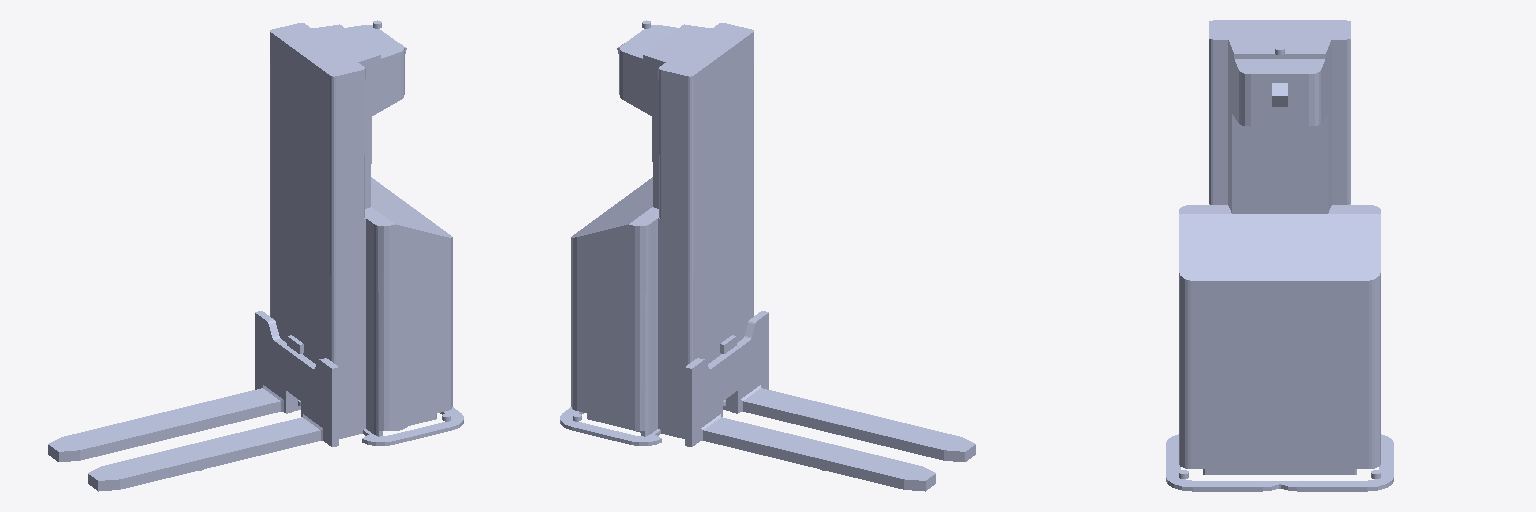
The robot description file, URDF, robot "forklift_urdf":
<?xml version="1.0" encoding="utf-8"?>
<!-- This URDF was automatically created by SolidWorks to URDF Exporter! Originally created by Stephen Brawner (brawner@gmail.com) 
     Commit Version: 1.6.0-4-g7f85cfe  Build Version: 1.6.7995.38578
     For more information, please see http://wiki.ros.org/sw_urdf_exporter -->
<robot
  name="forklift_urdf">
  <link
    name="base_link">
    <inertial>
      <origin
        xyz="0.94148 -7.6988E-08 0.92711"
        rpy="0 0 0" />
      <mass
        value="1000" />
      <inertia
        ixx="1152.4"
        ixy="0.00030978"
        ixz="23.035"
        iyy="1102.3"
        iyz="-5.1614E-05"
        izz="320.85" />
    </inertial>
    <visual>
      <origin
        xyz="0 0 0"
        rpy="0 0 0" />
      <geometry>
        <mesh
          filename="package://forklift_urdf/meshes/base_link.STL" />
      </geometry>
      <material
        name="">
        <color
          rgba="0.79216 0.81961 0.93333 1" />
      </material>
    </visual>
    <collision>
      <origin
        xyz="0 0 0"
        rpy="0 0 0" />
      <geometry>
        <mesh
          filename="package://forklift_urdf/meshes/base_link.STL" />
      </geometry>
    </collision>
  </link>
  <link
    name="left_lidar_link">
    <inertial>
      <origin
        xyz="-6.9389E-18 0 6.9389E-18"
        rpy="0 0 0" />
      <mass
        value="0.28464" />
      <inertia
        ixx="4.8105E-05"
        ixy="-4.5139E-36"
        ixz="9.5557E-09"
        iyy="4.8105E-05"
        iyz="9.2387E-38"
        izz="6.8884E-05" />
    </inertial>
    <visual>
      <origin
        xyz="0 0 0"
        rpy="0 0 0" />
      <geometry>
        <mesh
          filename="package://forklift_urdf/meshes/left_lidar_link.STL" />
      </geometry>
      <material
        name="">
        <color
          rgba="0.79216 0.81961 0.93333 1" />
      </material>
    </visual>
    <collision>
      <origin
        xyz="0 0 0"
        rpy="0 0 0" />
      <geometry>
        <mesh
          filename="package://forklift_urdf/meshes/left_lidar_link.STL" />
      </geometry>
    </collision>
  </link>
  <joint
    name="left_lidar_joint"
    type="continuous">
    <origin
      xyz="1.27295476942974 0.418116775610435 0.0239999999999846"
      rpy="0 -0.000459874311882969 0" />
    <parent
      link="base_link" />
    <child
      link="left_lidar_link" />
    <axis
      xyz="0.000459874295673651 0 0.999999894257811" />
  </joint>
  <link
    name="right_lidar_link">
    <inertial>
      <origin
        xyz="-6.9389E-18 -5.5511E-17 6.9389E-18"
        rpy="0 0 0" />
      <mass
        value="0.28464" />
      <inertia
        ixx="4.8105E-05"
        ixy="6.6884E-53"
        ixz="3.7885E-22"
        iyy="4.8105E-05"
        iyz="1.4522E-37"
        izz="6.8884E-05" />
    </inertial>
    <visual>
      <origin
        xyz="0 0 0"
        rpy="0 0 0" />
      <geometry>
        <mesh
          filename="package://forklift_urdf/meshes/right_lidar_link.STL" />
      </geometry>
      <material
        name="">
        <color
          rgba="0.79216 0.81961 0.93333 1" />
      </material>
    </visual>
    <collision>
      <origin
        xyz="0 0 0"
        rpy="0 0 0" />
      <geometry>
        <mesh
          filename="package://forklift_urdf/meshes/right_lidar_link.STL" />
      </geometry>
    </collision>
  </link>
  <joint
    name="right_lidar_joint"
    type="continuous">
    <origin
      xyz="1.27295476942975 -0.418116775610423 0.0239999999999846"
      rpy="0 0 0" />
    <parent
      link="base_link" />
    <child
      link="right_lidar_link" />
    <axis
      xyz="0 0 1" />
  </joint>
  <link
    name="rear_lidar_link">
    <inertial>
      <origin
        xyz="0 0 0.012"
        rpy="0 0 0" />
      <mass
        value="0.28464" />
      <inertia
        ixx="4.8105E-05"
        ixy="-6.0185E-36"
        ixz="6.2789E-37"
        iyy="4.8105E-05"
        iyz="-2.0758E-37"
        izz="6.8884E-05" />
    </inertial>
    <visual>
      <origin
        xyz="0 0 0"
        rpy="0 0 0" />
      <geometry>
        <mesh
          filename="package://forklift_urdf/meshes/rear_lidar_link.STL" />
      </geometry>
      <material
        name="">
        <color
          rgba="0.79216 0.81961 0.93333 1" />
      </material>
    </visual>
    <collision>
      <origin
        xyz="0 0 0"
        rpy="0 0 0" />
      <geometry>
        <mesh
          filename="package://forklift_urdf/meshes/rear_lidar_link.STL" />
      </geometry>
    </collision>
  </link>
  <joint
    name="rear_lidar_joint"
    type="fixed">
    <origin
      xyz="0.705969649244955 0 0.0559999999999846"
      rpy="0 0.000459874311882969 -3.14159265358978" />
    <parent
      link="base_link" />
    <child
      link="rear_lidar_link" />
    <axis
      xyz="0 0 0" />
  </joint>
  <link
    name="up_lidar_link">
    <inertial>
      <origin
        xyz="0 0 0"
        rpy="0 0 0" />
      <mass
        value="0.284643374059973" />
      <inertia
        ixx="4.81274052613001E-05"
        ixy="1.31890466162261E-35"
        ixz="6.86039242171329E-07"
        iyy="4.81047302161354E-05"
        iyz="-3.03755087092172E-36"
        izz="6.88610214773487E-05" />
    </inertial>
    <visual>
      <origin
        xyz="0 0 0"
        rpy="0 0 0" />
      <geometry>
        <mesh
          filename="package://forklift_urdf/meshes/up_lidar_link.STL" />
      </geometry>
      <material
        name="">
        <color
          rgba="0.792156862745098 0.819607843137255 0.933333333333333 1" />
      </material>
    </visual>
    <collision>
      <origin
        xyz="0 0 0"
        rpy="0 0 0" />
      <geometry>
        <mesh
          filename="package://forklift_urdf/meshes/up_lidar_link.STL" />
      </geometry>
    </collision>
  </link>
  <joint
    name="up_lidar_joint"
    type="fixed">
    <origin
      xyz="1.12608148221207 0 1.98742227080532"
      rpy="0 -0.0334999573301522 0" />
    <parent
      link="base_link" />
    <child
      link="up_lidar_link" />
    <axis
      xyz="0 0 0" />
  </joint>
  <link
    name="3d_lidar_link">
    <inertial>
      <origin
        xyz="-0.04 -1.65556789141244E-18 2.22044604925031E-16"
        rpy="0 0 0" />
      <mass
        value="3.0576" />
      <inertia
        ixx="0.00249703999999999"
        ixy="2.84905452540826E-19"
        ixz="-2.16840434497101E-19"
        iyy="0.00287924"
        iyz="-3.13920448401802E-19"
        izz="0.00287924" />
    </inertial>
    <visual>
      <origin
        xyz="0 0 0"
        rpy="0 0 0" />
      <geometry>
        <mesh
          filename="package://forklift_urdf/meshes/3d_lidar_link.STL" />
      </geometry>
      <material
        name="">
        <color
          rgba="0.792156862745098 0.819607843137255 0.933333333333333 1" />
      </material>
    </visual>
    <collision>
      <origin
        xyz="0 0 0"
        rpy="0 0 0" />
      <geometry>
        <mesh
          filename="package://forklift_urdf/meshes/3d_lidar_link.STL" />
      </geometry>
    </collision>
  </link>
  <joint
    name="3d_lidar_joint"
    type="fixed">
    <origin
      xyz="1.25994093768194 0 1.80699999999998"
      rpy="0 0.349065850398863 0" />
    <parent
      link="base_link" />
    <child
      link="3d_lidar_link" />
    <axis
      xyz="0 0 0" />
  </joint>
  <link
    name="fork_left_wheel_link">
    <inertial>
      <origin
        xyz="0 1.73472347597681E-18 0"
        rpy="0 0 0" />
      <mass
        value="2.74449534217604" />
      <inertia
        ixx="0.00221846706825897"
        ixy="6.44168556386896E-20"
        ixz="8.80104428298725E-21"
        iyy="0.00221846706825897"
        iyz="-2.28461613208865E-20"
        izz="0.00219559627374084" />
    </inertial>
    <visual>
      <origin
        xyz="0 0 0"
        rpy="0 0 0" />
      <geometry>
        <mesh
          filename="package://forklift_urdf/meshes/fork_left_wheel_link.STL" />
      </geometry>
      <material
        name="">
        <color
          rgba="0.792156862745098 0.819607843137255 0.933333333333333 1" />
      </material>
    </visual>
    <collision>
      <origin
        xyz="0 0 0"
        rpy="0 0 0" />
      <geometry>
        <mesh
          filename="package://forklift_urdf/meshes/fork_left_wheel_link.STL" />
      </geometry>
    </collision>
  </link>
  <joint
    name="fork_left_wheel_joint"
    type="continuous">
    <origin
      xyz="0 0.2 0"
      rpy="1.5708 -0.00045987 0" />
    <parent
      link="base_link" />
    <child
      link="fork_left_wheel_link" />
    <axis
      xyz="0 0 1" />
  </joint>
  <link
    name="fork_right_wheel_link">
    <inertial>
      <origin
        xyz="-2.22044604925031E-16 3.46944695195361E-18 2.77555756156289E-17"
        rpy="0 0 0" />
      <mass
        value="2.74449534217604" />
      <inertia
        ixx="0.00221846706825897"
        ixy="3.66129991450671E-20"
        ixz="-2.44262349268226E-19"
        iyy="0.00221846706825897"
        iyz="-2.19879982597049E-20"
        izz="0.00219559627374084" />
    </inertial>
    <visual>
      <origin
        xyz="0 0 0"
        rpy="0 0 0" />
      <geometry>
        <mesh
          filename="package://forklift_urdf/meshes/fork_right_wheel_link.STL" />
      </geometry>
      <material
        name="">
        <color
          rgba="0.792156862745098 0.819607843137255 0.933333333333333 1" />
      </material>
    </visual>
    <collision>
      <origin
        xyz="0 0 0"
        rpy="0 0 0" />
      <geometry>
        <mesh
          filename="package://forklift_urdf/meshes/fork_right_wheel_link.STL" />
      </geometry>
    </collision>
  </link>
  <joint
    name="fork_right_wheel_joint"
    type="continuous">
    <origin
      xyz="0 -0.2 0"
      rpy="1.5708 -0.00045987 0" />
    <parent
      link="base_link" />
    <child
      link="fork_right_wheel_link" />
    <axis
      xyz="0 0 1" />
  </joint>
  <link
    name="fork_link">
    <inertial>
      <origin
        xyz="0.20613 1.3173E-13 0.16012"
        rpy="0 0 0" />
      <mass
        value="109.28" />
      <inertia
        ixx="7.0019"
        ixy="-4.1494E-13"
        ixz="2.401"
        iyy="14.74"
        iyz="9.8772E-14"
        izz="18.824" />
    </inertial>
    <visual>
      <origin
        xyz="0 0 0"
        rpy="0 0 0" />
      <geometry>
        <mesh
          filename="package://forklift_urdf/meshes/fork_link.STL" />
      </geometry>
      <material
        name="">
        <color
          rgba="0.79216 0.81961 0.93333 1" />
      </material>
    </visual>
    <collision>
      <origin
        xyz="0 0 0"
        rpy="0 0 0" />
      <geometry>
        <mesh
          filename="package://forklift_urdf/meshes/fork_link.STL" />
      </geometry>
    </collision>
  </link>
  <joint
    name="fork_joint"
    type="prismatic">
    <origin
      xyz="0.697 0 -0.01"
      rpy="0 0.00045987 -3.1416" />
    <parent
      link="base_link" />
    <child
      link="fork_link" />
    <axis
      xyz="0 0 -1" />
    <limit
      lower="0"
      upper="1"
      effort="0"
      velocity="0" />
  </joint>
  <link
    name="camera_link">
    <inertial>
      <origin
        xyz="-0.0125000000000033 1.25403778269255E-13 -9.43689570931383E-16"
        rpy="0 0 0" />
      <mass
        value="1.1505" />
      <inertia
        ixx="0.001574651"
        ixy="-3.81473760349349E-19"
        ixz="-1.05515558313288E-20"
        iyy="0.000299609375"
        iyz="-1.03094594493258E-19"
        izz="0.001394885375" />
    </inertial>
    <visual>
      <origin
        xyz="0 0 0"
        rpy="0 0 0" />
      <geometry>
        <mesh
          filename="package://forklift_urdf/meshes/camera_link.STL" />
      </geometry>
      <material
        name="">
        <color
          rgba="0.792156862745098 0.819607843137255 0.933333333333333 1" />
      </material>
    </visual>
    <collision>
      <origin
        xyz="0 0 0"
        rpy="0 0 0" />
      <geometry>
        <mesh
          filename="package://forklift_urdf/meshes/camera_link.STL" />
      </geometry>
    </collision>
  </link>
  <joint
    name="camera_joint"
    type="fixed">
    <origin
      xyz="0.04 0 0.395"
      rpy="0 0 0" />
    <parent
      link="fork_link" />
    <child
      link="camera_link" />
    <axis
      xyz="0 0 0" />
  </joint>
  <link
    name="left_steering_link">
    <inertial>
      <origin
        xyz="1.37962288702387E-05 0 0.0299999968277342"
        rpy="0 0 0" />
      <mass
        value="0.330809706423005" />
      <inertia
        ixx="0.000117850940860182"
        ixy="1.322946336317E-40"
        ixz="-3.70818982600544E-08"
        iyy="0.000117850957913196"
        iyz="2.87675612416745E-37"
        izz="3.72161090256018E-05" />
    </inertial>
    <visual>
      <origin
        xyz="0 0 0"
        rpy="0 0 0" />
      <geometry>
        <mesh
          filename="package://forklift_urdf/meshes/left_steering_link.STL" />
      </geometry>
      <material
        name="">
        <color
          rgba="0.792156862745098 0.819607843137255 0.933333333333333 1" />
      </material>
    </visual>
    <collision>
      <origin
        xyz="0 0 0"
        rpy="0 0 0" />
      <geometry>
        <mesh
          filename="package://forklift_urdf/meshes/left_steering_link.STL" />
      </geometry>
    </collision>
  </link>
  <joint
    name="left_steering_joint"
    type="revolute">
    <origin
      xyz="1.065 0.258 0.235"
      rpy="0 -0.00045987 0" />
    <parent
      link="base_link" />
    <child
      link="left_steering_link" />
    <axis
      xyz="0.00045987 0 1" />
    <limit
      lower="-31.416"
      upper="31.416"
      effort="0"
      velocity="0" />
  </joint>
  <link
    name="left_wheel_link">
    <inertial>
      <origin
        xyz="0 0 0"
        rpy="0 0 0" />
      <mass
        value="19.1134497044403" />
      <inertia
        ixx="0.057474143261252"
        ixy="-5.16920490786777E-18"
        ixz="1.68354359518156E-23"
        iyy="0.057474143261252"
        iyz="2.19872438968088E-18"
        izz="0.0955672485222015" />
    </inertial>
    <visual>
      <origin
        xyz="0 0 0"
        rpy="0 0 0" />
      <geometry>
        <mesh
          filename="package://forklift_urdf/meshes/left_wheel_link.STL" />
      </geometry>
      <material
        name="">
        <color
          rgba="0.792156862745098 0.819607843137255 0.933333333333333 1" />
      </material>
    </visual>
    <collision>
      <origin
        xyz="0 0 0"
        rpy="0 0 0" />
      <geometry>
        <mesh
          filename="package://forklift_urdf/meshes/left_wheel_link.STL" />
      </geometry>
    </collision>
  </link>
  <joint
    name="left_wheel_joint"
    type="continuous">
    <origin
      xyz="-0.066113 0 -0.17497"
      rpy="1.5708 0 0" />
    <parent
      link="left_steering_link" />
    <child
      link="left_wheel_link" />
    <axis
      xyz="0 0 1" />
  </joint>
  <link
    name="right_steering_link">
    <inertial>
      <origin
        xyz="1.37962288702109E-05 0 0.0299999968277342"
        rpy="0 0 0" />
      <mass
        value="0.330809706423005" />
      <inertia
        ixx="0.000117850940860182"
        ixy="1.322946336317E-40"
        ixz="-3.70818982600544E-08"
        iyy="0.000117850957913196"
        iyz="2.87675612416745E-37"
        izz="3.72161090256018E-05" />
    </inertial>
    <visual>
      <origin
        xyz="0 0 0"
        rpy="0 0 0" />
      <geometry>
        <mesh
          filename="package://forklift_urdf/meshes/right_steering_link.STL" />
      </geometry>
      <material
        name="">
        <color
          rgba="0.792156862745098 0.819607843137255 0.933333333333333 1" />
      </material>
    </visual>
    <collision>
      <origin
        xyz="0 0 0"
        rpy="0 0 0" />
      <geometry>
        <mesh
          filename="package://forklift_urdf/meshes/right_steering_link.STL" />
      </geometry>
    </collision>
  </link>
  <joint
    name="right_steering_joint"
    type="revolute">
    <origin
      xyz="1.07 -0.264 0.235"
      rpy="0 -0.00045987 0" />
    <parent
      link="base_link" />
    <child
      link="right_steering_link" />
    <axis
      xyz="0.00045987 0 1" />
    <limit
      lower="-3.1416"
      upper="3.1416"
      effort="0"
      velocity="0" />
  </joint>
  <link
    name="right_wheel_link">
    <inertial>
      <origin
        xyz="0 -1.38777878078145E-17 0"
        rpy="0 0 0" />
      <mass
        value="38.2881604656256" />
      <inertia
        ixx="0.181469927206871"
        ixy="1.97324795392362E-17"
        ixz="3.10993926085734E-18"
        iyy="0.181469927206871"
        iyz="1.95059178163127E-18"
        izz="0.2991262536377" />
    </inertial>
    <visual>
      <origin
        xyz="0 0 0"
        rpy="0 0 0" />
      <geometry>
        <mesh
          filename="package://forklift_urdf/meshes/right_wheel_link.STL" />
      </geometry>
      <material
        name="">
        <color
          rgba="0.792156862745098 0.819607843137255 0.933333333333333 1" />
      </material>
    </visual>
    <collision>
      <origin
        xyz="0 0 0"
        rpy="0 0 0" />
      <geometry>
        <mesh
          filename="package://forklift_urdf/meshes/right_wheel_link.STL" />
      </geometry>
    </collision>
  </link>
  <joint
    name="right_wheel_joint"
    type="continuous">
    <origin
      xyz="-6.8981E-05 0 -0.15"
      rpy="1.5708 0 0" />
    <parent
      link="right_steering_link" />
    <child
      link="right_wheel_link" />
    <axis
      xyz="0 0 1" />
  </joint>
</robot>

--- Facts derived from the render (not from the file) ---
Views: 3 orthographic renders of the robot side by side, from view 1: azimuth 30°, elevation 25°; view 2: azimuth 150°, elevation 25°; view 3: azimuth 270°, elevation 25°.
Robot: forklift_urdf — 14 links, 13 joints (2 revolute, 6 continuous, 1 prismatic, 4 fixed); root link base_link; default pose: every joint at zero.
Links seen in each view (by area): view 1: base_link, fork_link; view 2: base_link, fork_link; view 3: base_link.
Boxes of the visible links, x1,y1,x2,y2 form: base_link: (270, 23, 463, 445); fork_link: (48, 311, 338, 491); base_link: (560, 23, 753, 445); fork_link: (685, 311, 975, 491); base_link: (1166, 20, 1393, 491).
Bounding box of the posed robot: 1.95 × 0.994 × 2.04 m (x, y, z).
Meshes: 14 distinct files referenced, 14 mesh visuals loaded (14 binary STL).
